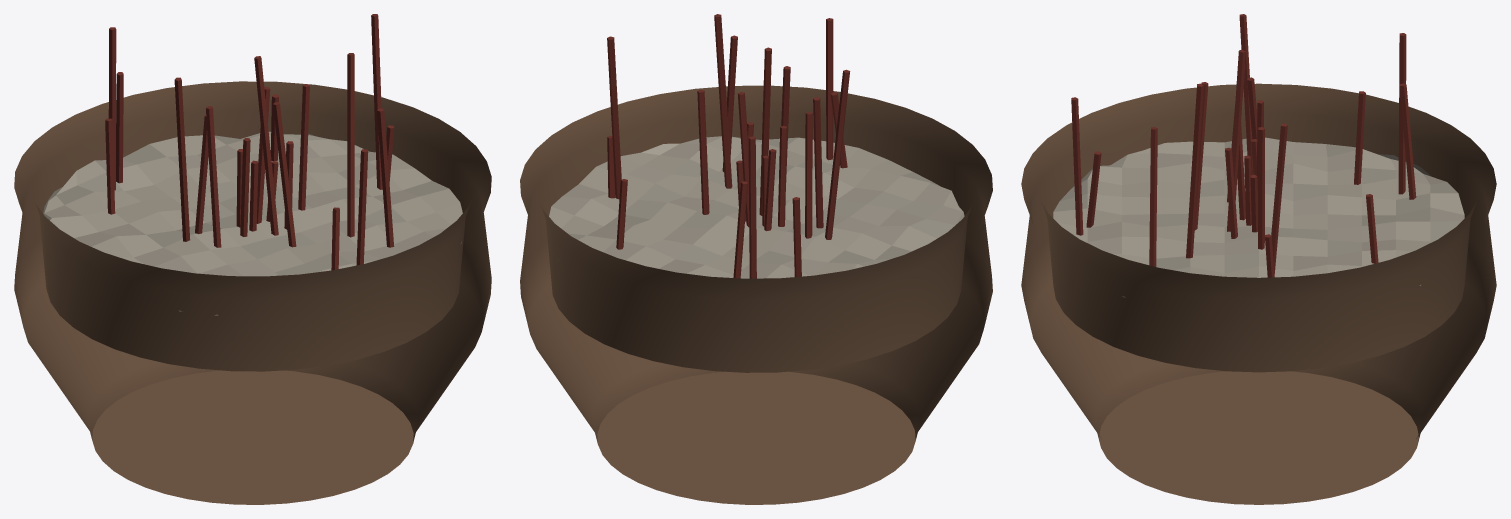
Rendered from BatNhang_FullAssembly.glb.
3 views of the same model, side by side, from view 1: azimuth 30°, elevation 25°; view 2: azimuth 150°, elevation 25°; view 3: azimuth 270°, elevation 25° (orthographic).
Visible parts, largest first — view 1: BatNhangHam; view 2: BatNhangHam; view 3: BatNhangHam.
Part boxes in pixels (x1,y1,x2,y2): BatNhangHam: [14, 14, 491, 504]; BatNhangHam: [520, 14, 992, 504]; BatNhangHam: [1021, 14, 1496, 504].
Size of the model in its own units: 0.1872 by 0.1676 by 0.1872.
